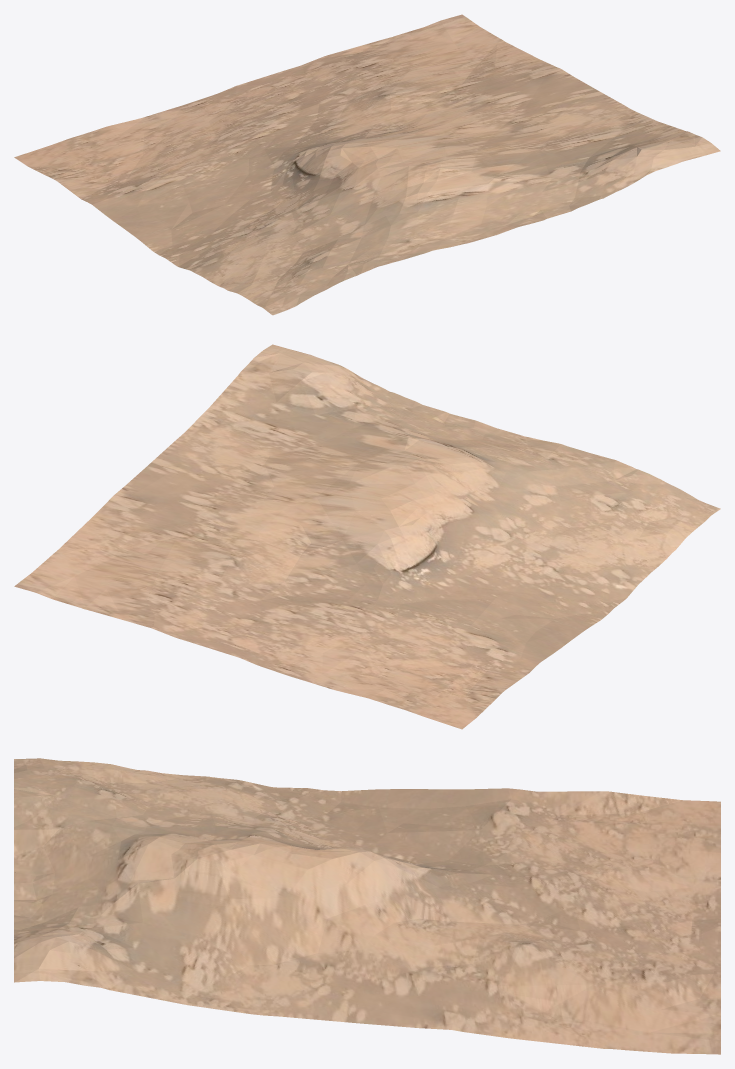
3 views of the same model, one above another, from view 1: azimuth 30°, elevation 25°; view 2: azimuth 150°, elevation 25°; view 3: azimuth 270°, elevation 25° (orthographic). The views are drawn at different scales.
Size of the model in its own units: 1.04 by 0.197 by 1.04.
Materials: 3 (3 with a texture image).
